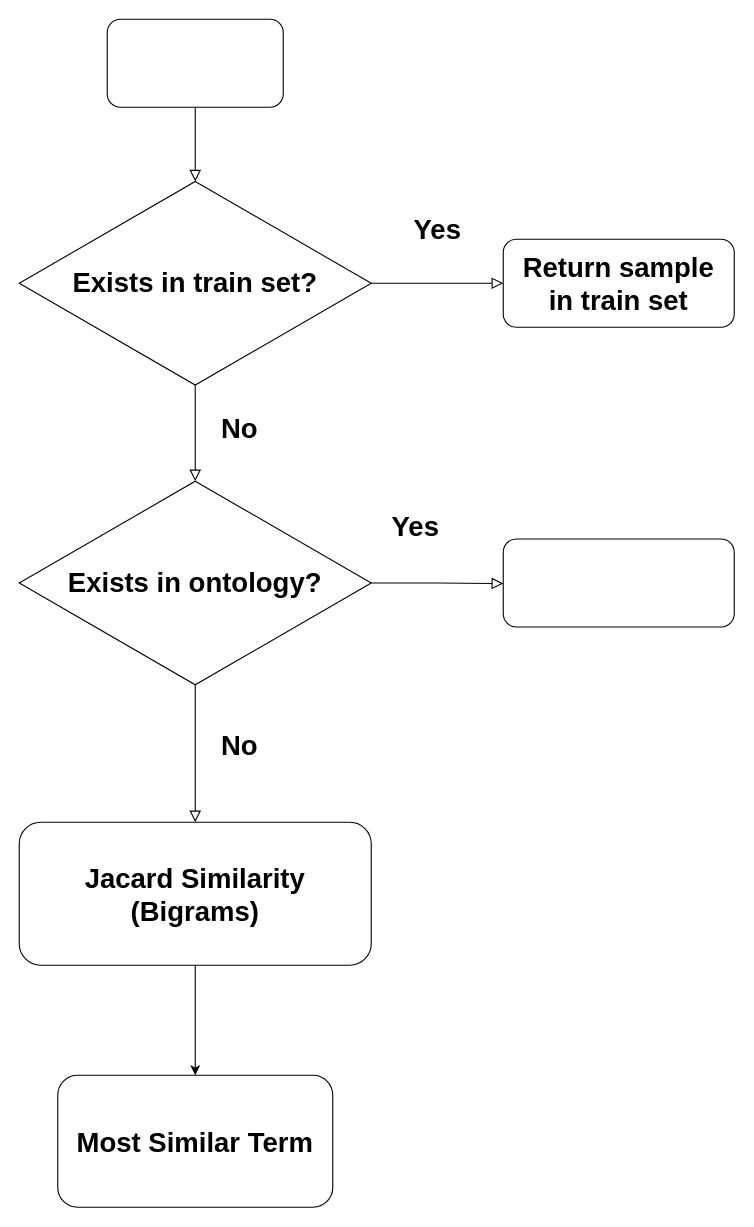
Image size: 754x1227. Some labels were removed from this diagram. The box of each missing label's shape, as (x1, y1, x2, y2) in pixels:
Return sample in ontology: (502, 538, 734, 627)
Sample: (106, 18, 283, 107)
